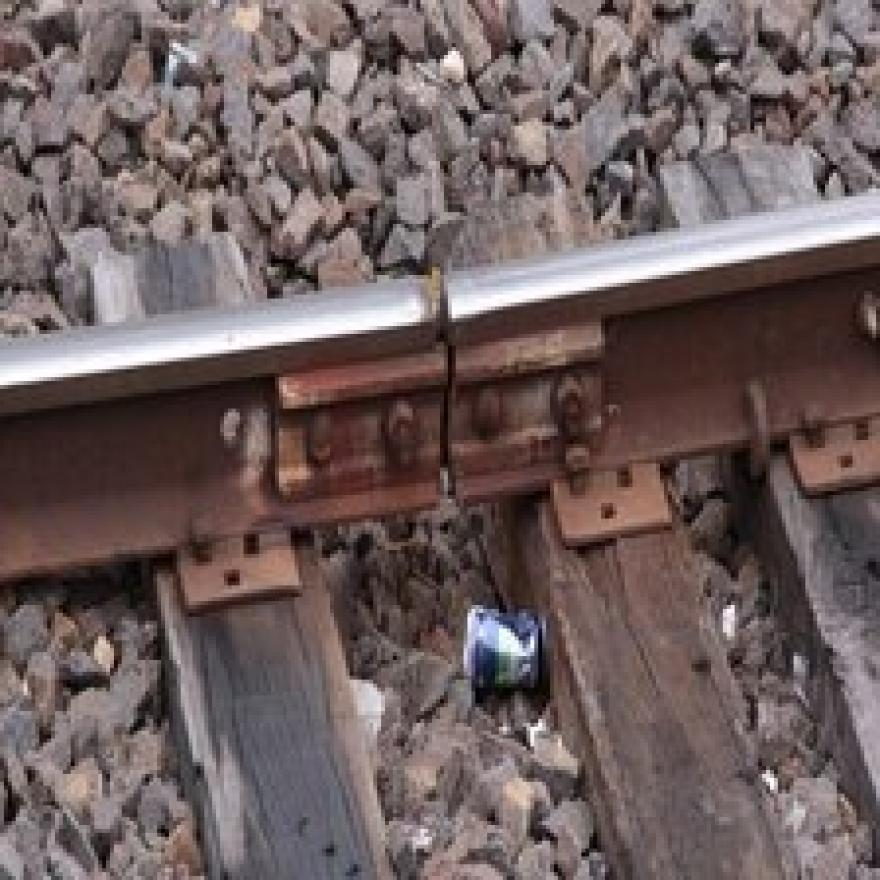railway-gap: (310, 244, 577, 526)
